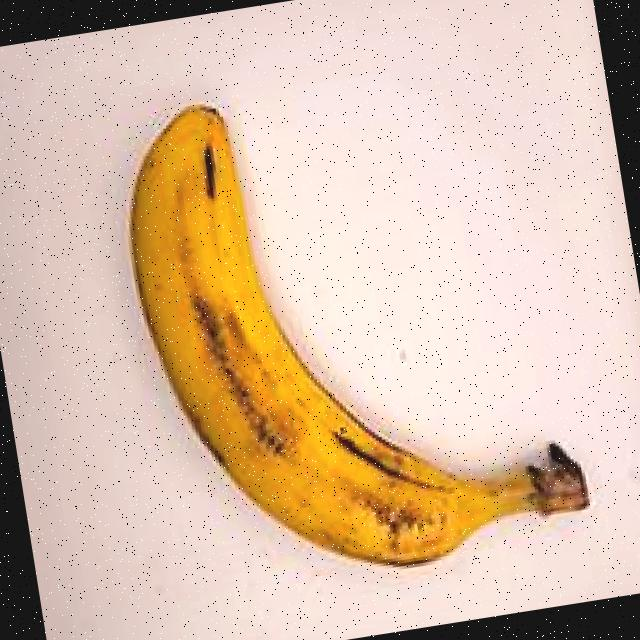Overripe: (59, 29, 640, 640)
